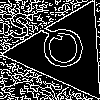Q: (39, 26, 87, 76)
